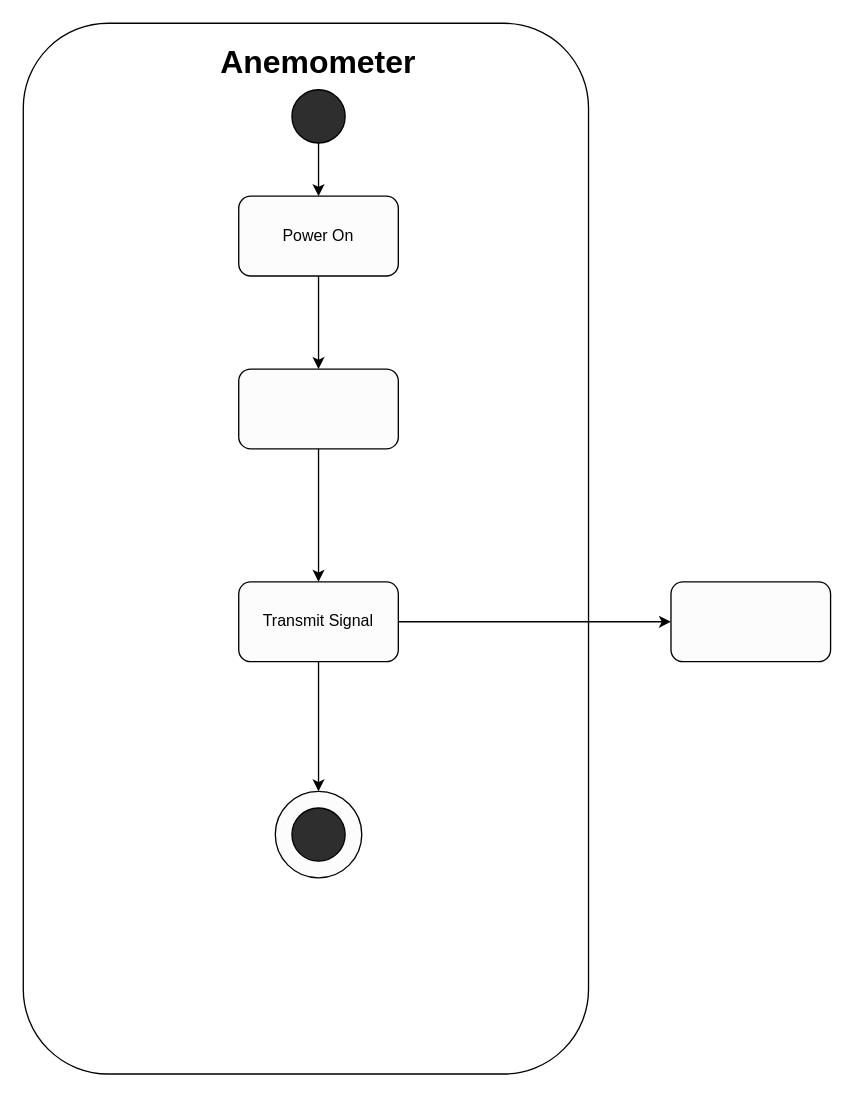
The diagram is 854 pixels wide and 1097 high, and some of its shapes have lost their labels. Here are the shapes that lost their labels. From the top down, the centre of each, then its label:
At (x=317, y=408): "Wind Speed Measurment".
At (x=750, y=621): "MCU".
